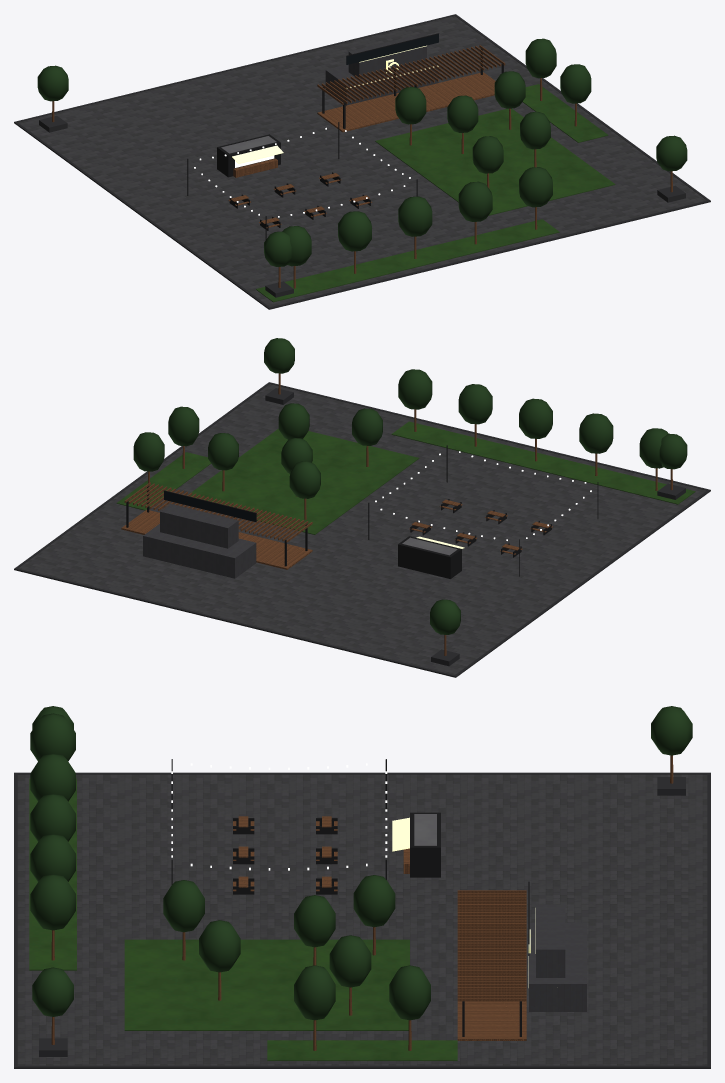
Rendered from fans_L2.glb.
The picture shows the model from 3 angles, top to bottom: view 1: azimuth 30°, elevation 25°; view 2: azimuth 150°, elevation 25°; view 3: azimuth 270°, elevation 25°; orthographic projection. The views are drawn at different scales.
Visible parts, largest first — view 1: paving_fans_L2, lawn_fans_L2, foliage_fans_L2, wood_fans_L2, concrete_dark_fans_L2, cladding_fans_L2, black_metal_fans_L2, glass_fans_L2, emissive_led_fans_L2; view 2: paving_fans_L2, lawn_fans_L2, foliage_fans_L2, wood_fans_L2, cladding_fans_L2, concrete_dark_fans_L2, black_metal_fans_L2, glass_fans_L2; view 3: paving_fans_L2, lawn_fans_L2, foliage_fans_L2, wood_fans_L2, concrete_dark_fans_L2, cladding_fans_L2, black_metal_fans_L2, roofing_fans_L2, emissive_led_fans_L2.
Boxes of the visible parts, <box> form: paving_fans_L2: <box>18,16,706,306</box>; lawn_fans_L2: <box>256,84,615,302</box>; foliage_fans_L2: <box>37,38,687,266</box>; wood_fans_L2: <box>52,45,672,288</box>; concrete_dark_fans_L2: <box>14,14,710,309</box>; cladding_fans_L2: <box>325,35,438,105</box>; black_metal_fans_L2: <box>187,33,503,239</box>; glass_fans_L2: <box>346,34,438,64</box>; emissive_led_fans_L2: <box>232,45,438,163</box>; paving_fans_L2: <box>18,384,706,674</box>; lawn_fans_L2: <box>116,421,695,534</box>; foliage_fans_L2: <box>133,338,687,634</box>; wood_fans_L2: <box>121,373,672,655</box>; cladding_fans_L2: <box>143,504,256,578</box>; concrete_dark_fans_L2: <box>14,382,710,677</box>; black_metal_fans_L2: <box>126,445,598,578</box>; glass_fans_L2: <box>164,491,256,522</box>; paving_fans_L2: <box>17,774,707,1065</box>; lawn_fans_L2: <box>29,778,457,1060</box>; foliage_fans_L2: <box>30,706,692,1020</box>; wood_fans_L2: <box>51,755,673,1050</box>; concrete_dark_fans_L2: <box>14,772,710,1068</box>; cladding_fans_L2: <box>529,904,586,1011</box>; black_metal_fans_L2: <box>171,759,529,1036</box>; roofing_fans_L2: <box>414,814,436,845</box>; emissive_led_fans_L2: <box>392,817,535,987</box>.
Size of the model in its own units: 58.6 by 8 by 58.6.
Materials: 11 (5 with a texture image).
